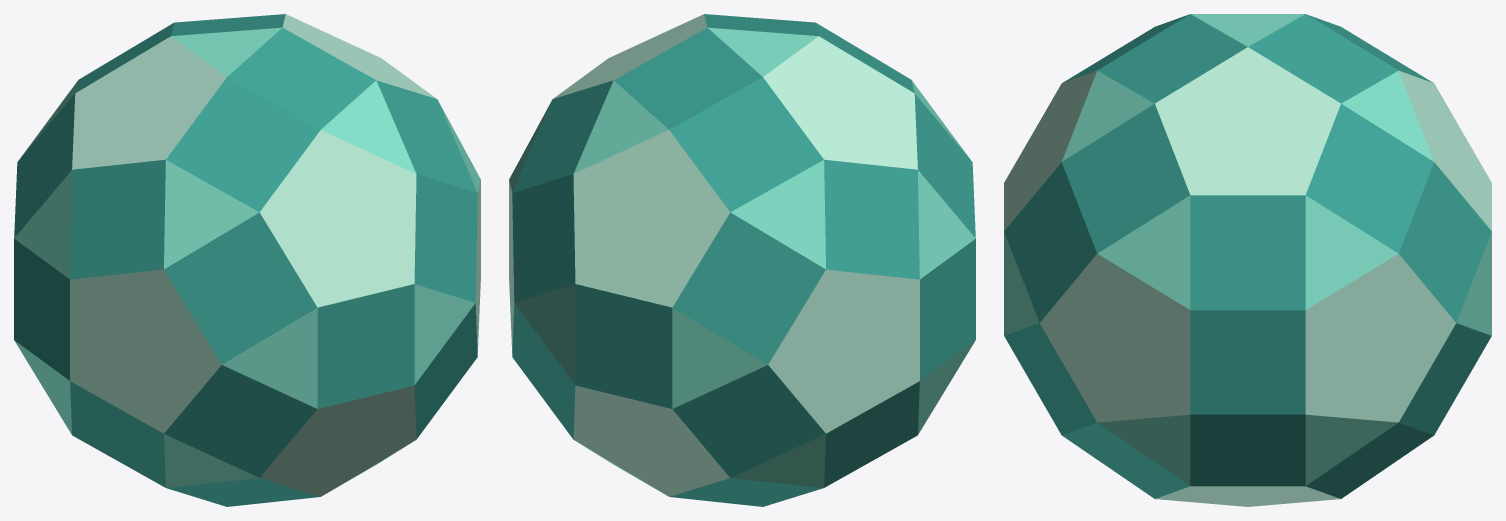
The model's file is J74.RombicosidodecaedroMetabigiroide.gltf.
The picture shows the model from 3 angles, left to right: view 1: azimuth 30°, elevation 25°; view 2: azimuth 150°, elevation 25°; view 3: azimuth 270°, elevation 25°; orthographic projection. The views are drawn at different scales.
Visible parts, largest first — view 1: J74.RombicosidodecaedroMetabigiroide; view 2: J74.RombicosidodecaedroMetabigiroide; view 3: J74.RombicosidodecaedroMetabigiroide.
Boxes of the visible parts, x1=… form: J74.RombicosidodecaedroMetabigiroide: x1=14, y1=14, x2=480, y2=506; J74.RombicosidodecaedroMetabigiroide: x1=509, y1=14, x2=975, y2=506; J74.RombicosidodecaedroMetabigiroide: x1=1004, y1=14, x2=1491, y2=506.
Bounding box in the file's own units: 18.97 × 19.74 × 18.97.
